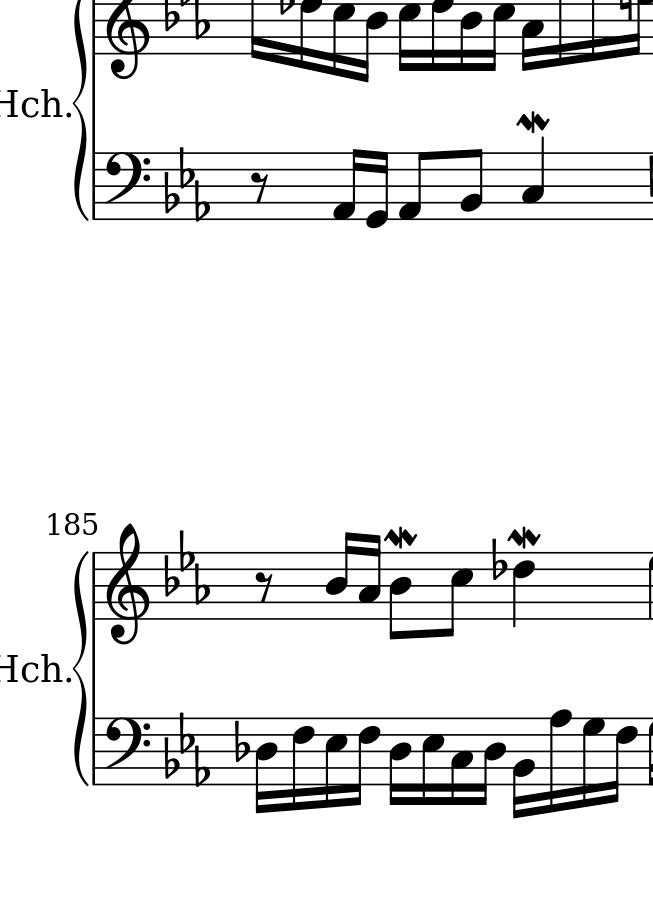1: (47, 511, 60, 538)
16_0: (365, 149, 390, 229)
16_1: (332, 147, 362, 223)
16_2: (511, 715, 536, 823)
16_3: (448, 714, 475, 807), (359, 532, 381, 624)
16_4: (474, 716, 507, 808), (324, 531, 356, 621), (252, 716, 278, 816), (388, 716, 414, 808)
16_5: (419, 716, 446, 808), (322, 716, 347, 809)
16_6: (345, 716, 380, 806), (605, 716, 638, 805), (289, 715, 314, 812)
16_7: (580, 717, 605, 808)
16_8: (548, 708, 572, 814)
4_3: (519, 135, 546, 223)
4_6: (511, 551, 536, 631)
5: (82, 510, 99, 539)
8: (61, 510, 80, 537)
8_1: (398, 152, 432, 222)
8_2: (457, 148, 485, 220)
8_4: (389, 551, 415, 643)
8_5: (438, 550, 476, 640)
Brace: (71, 1, 90, 221), (72, 550, 88, 789)
E_F: (162, 144, 211, 221), (163, 713, 211, 790), (164, 529, 209, 605)
Fclef: (100, 715, 152, 788), (102, 150, 152, 220)
Flat: (232, 719, 250, 761), (492, 538, 505, 581)
Gclef: (103, 523, 151, 649)
Hch: (1, 85, 62, 120), (1, 652, 64, 685)
Mordent: (505, 525, 543, 550), (516, 108, 551, 135), (385, 525, 419, 549)
Rests8: (254, 570, 276, 603), (250, 170, 271, 203)
Single_barline: (87, 551, 102, 621), (641, 551, 653, 622), (87, 1, 102, 55), (89, 718, 101, 785), (89, 153, 101, 219)
